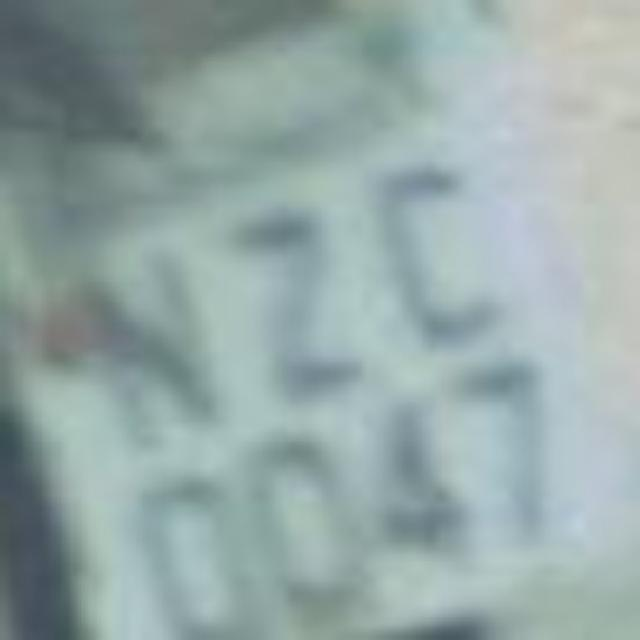0: (220, 404, 395, 628), (120, 447, 287, 640)
5: (344, 368, 488, 568)
7: (416, 328, 589, 544)
C: (356, 140, 524, 345)
N: (35, 244, 240, 464)
Z: (196, 188, 376, 408)
